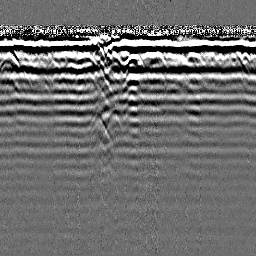cavity: (122, 52, 146, 73)
